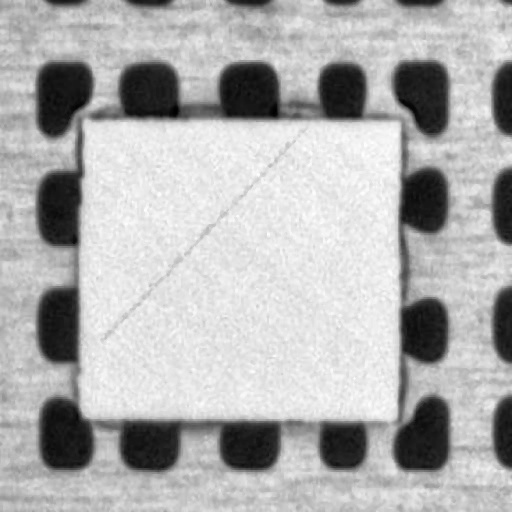DIE_CRACK: (131, 96, 399, 259)
